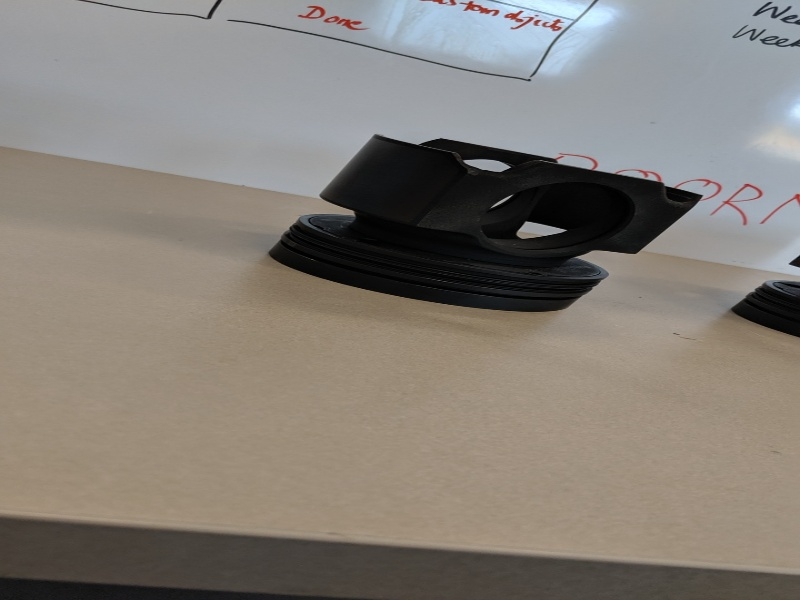piston: (262, 129, 707, 322)
